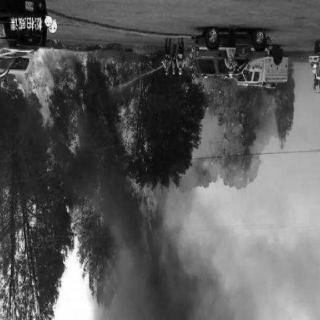Fire: (12, 43, 154, 235)
Smoke: (98, 179, 274, 315)
